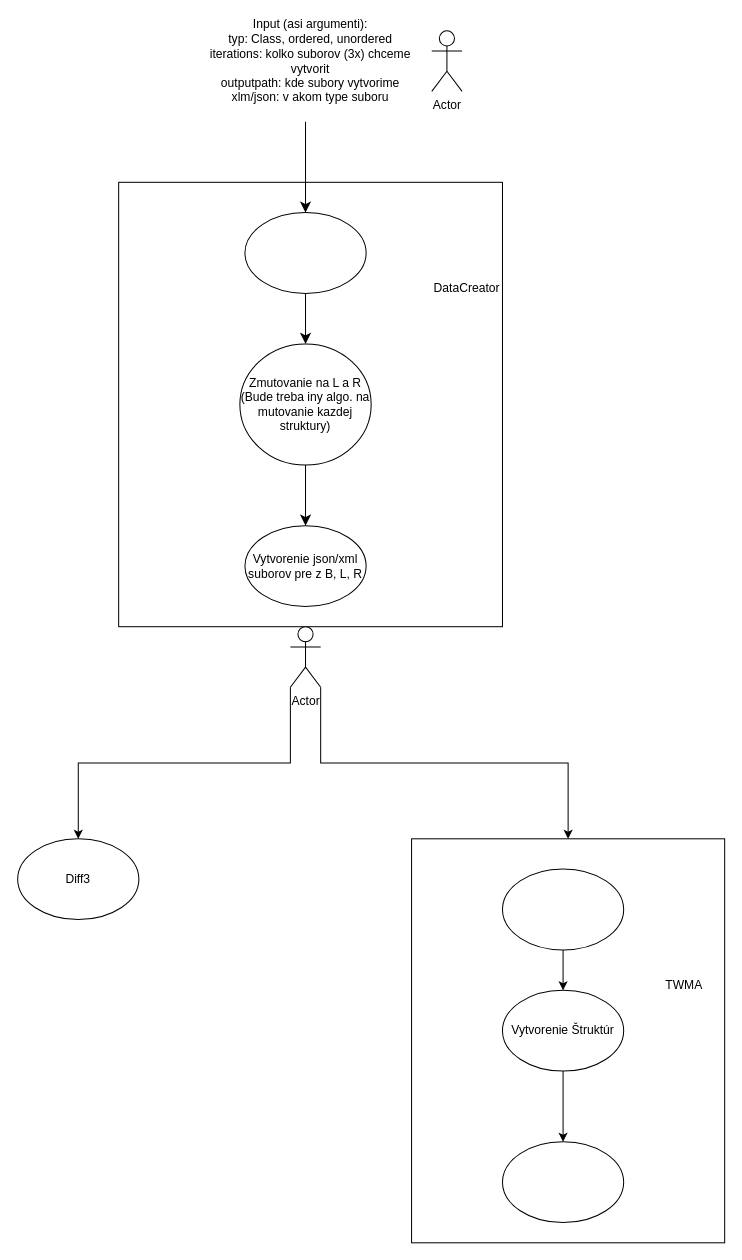
Image size: 742x1260. Some labels were removed from this diagram. The centre of each missing label's shape, as x and y in pixels:
Načítanie dát: (x=562, y=909)
SharpDiffLib: (x=562, y=1182)
Vytvorenie Base (Triedy/Homo. hashu/ Homo. pola): (x=305, y=252)
